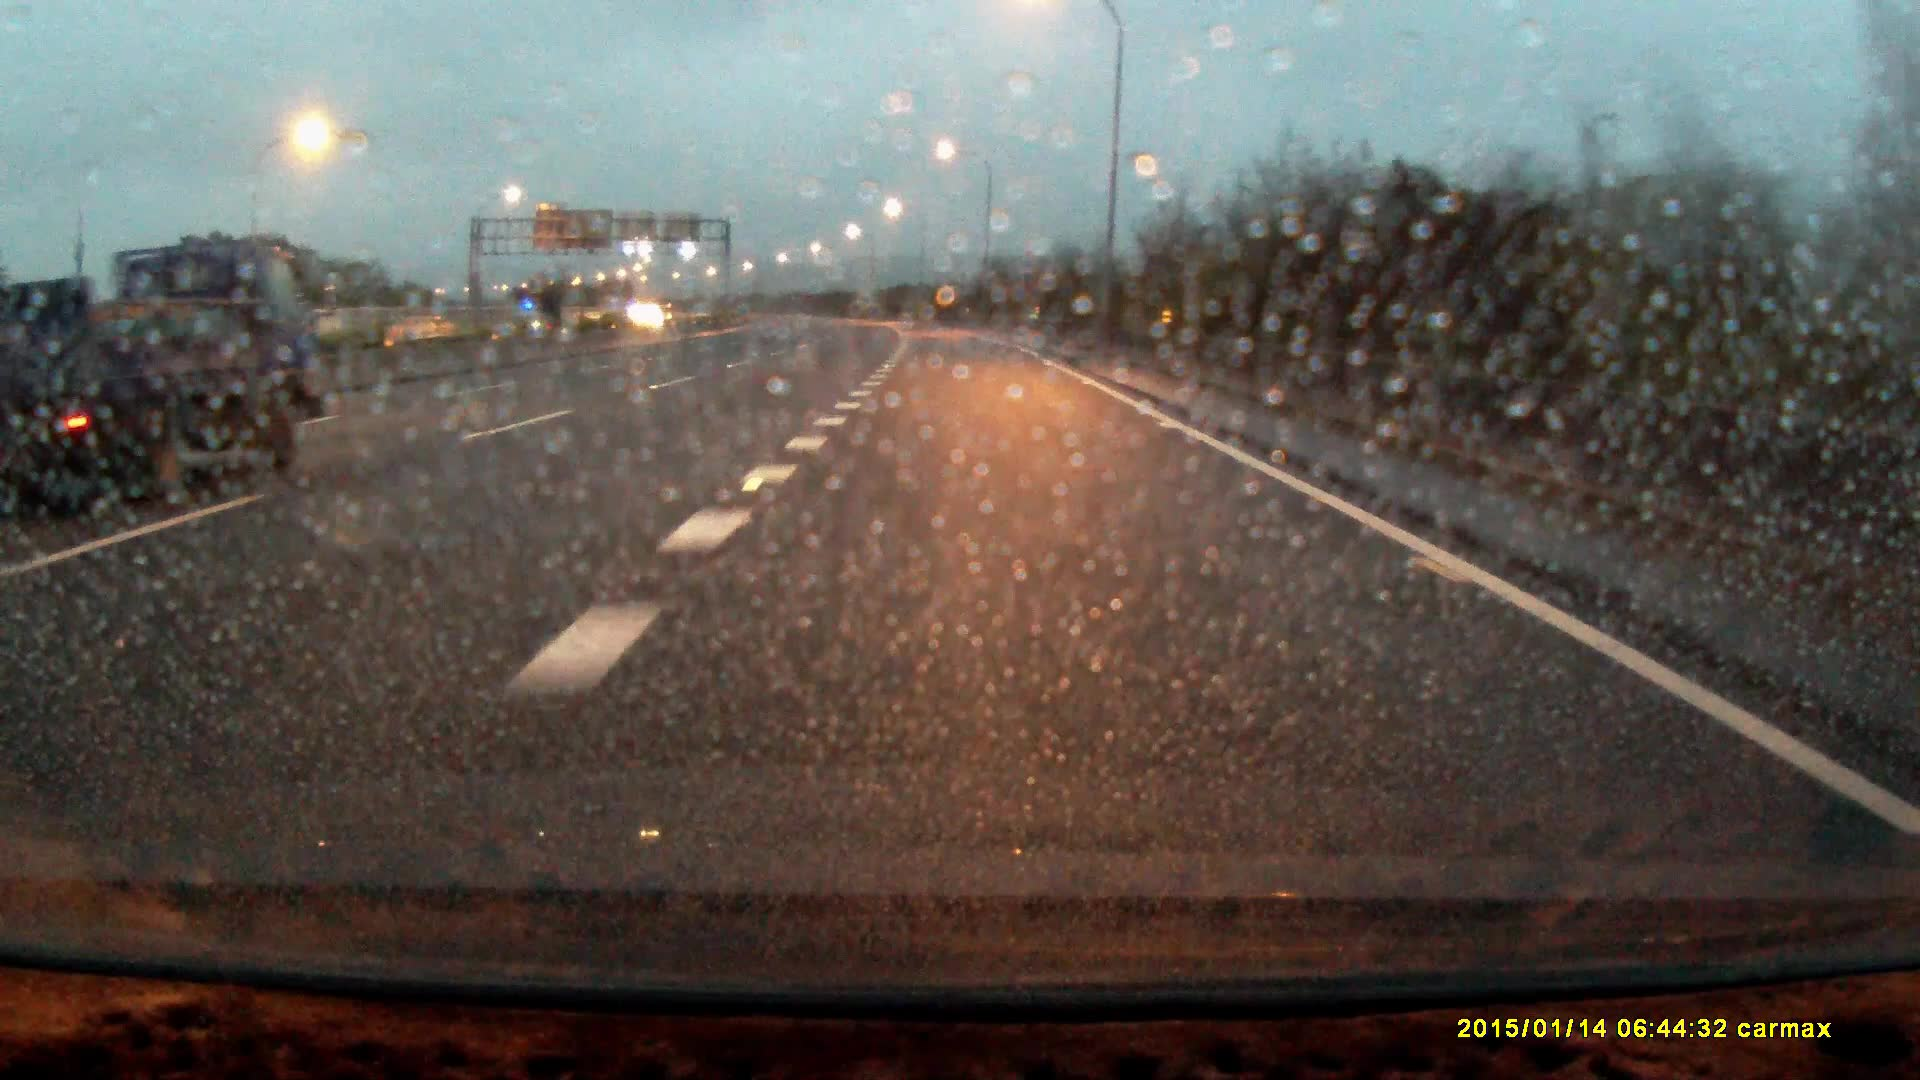vehicle: (1, 224, 368, 513)
